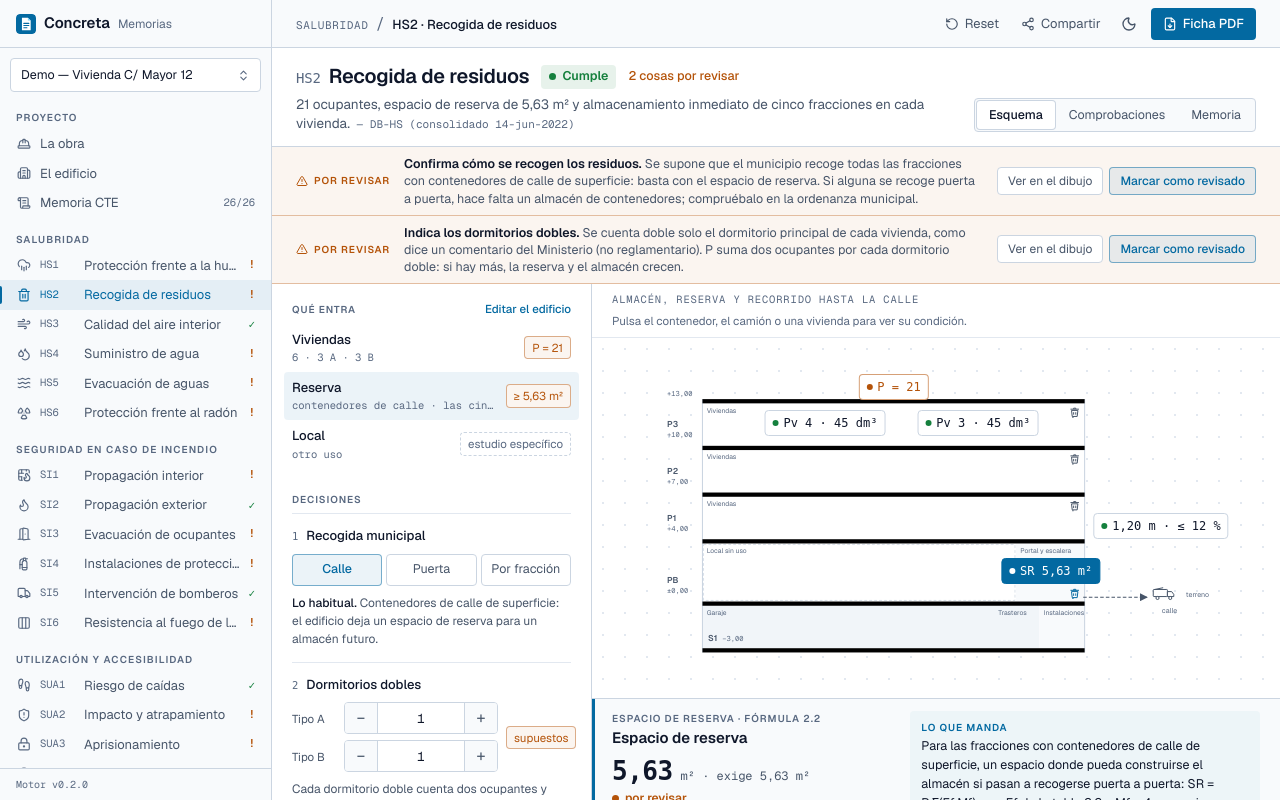
it: HS2 · Recogida y evacuación de residuos (feature-21) › cabecera, qué entra y avisos; puerta a puerta pide almacén en lugar de reserva
expect the element "Almacén, reserva y recorrido hasta la calle" is shown: met, box [592,284,1279,799]
expect the element named "Avisos" shows "Confirma cómo se recogen los residuos.": met, box [404,155,642,172]
Click the button "Puerta".
click(431, 570)  # box [386,554,477,586]
(page scrolled)
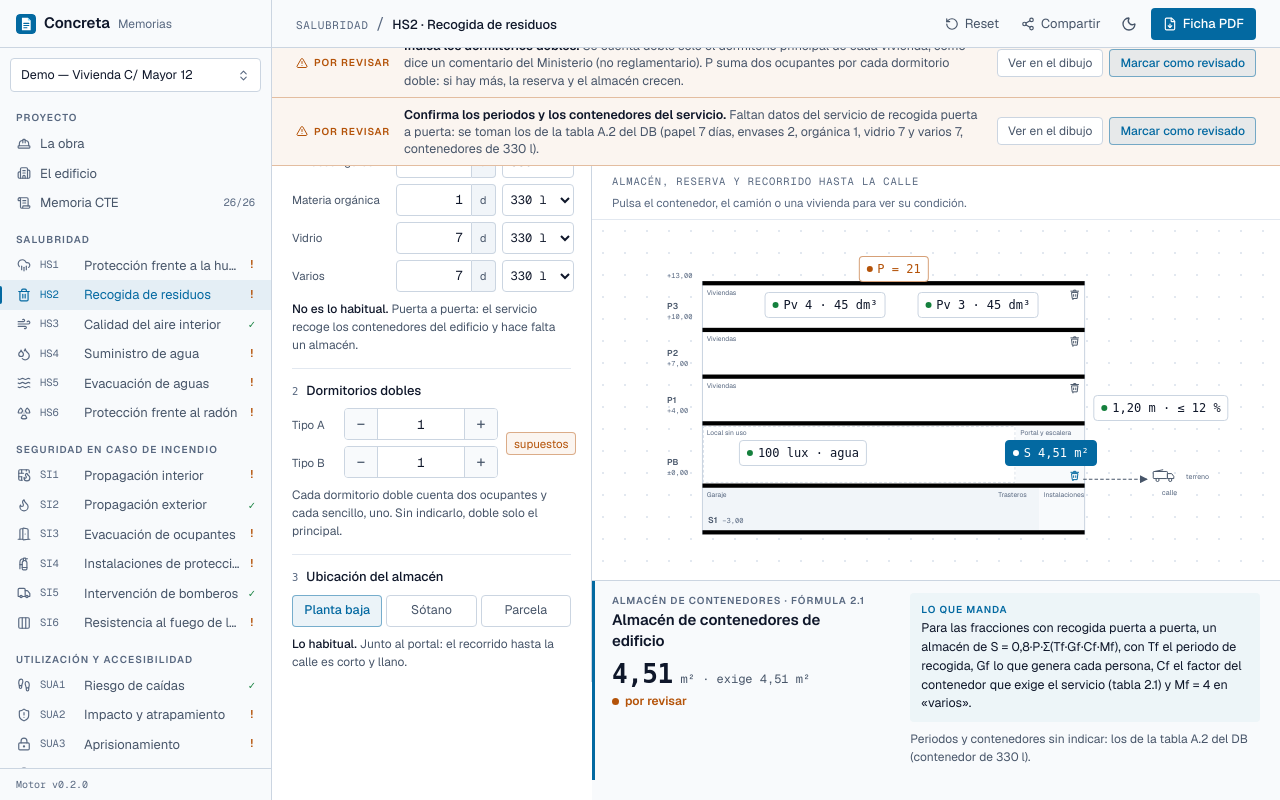
expect the element named "Avisos" shows "Confirma los periodos y los contenedores del servicio.": met, box [404,106,726,123]
expect the element named "Avisos" no longer shows "Confirma cómo se recogen los residuos.": met, box [272,48,1279,166]
Dos dobles en el tipo A: P sube a 24.
Click the button named "Dormitorios dobles del tipo A: más".
click(481, 424)  # box [465,409,497,439]
(page scrolled)
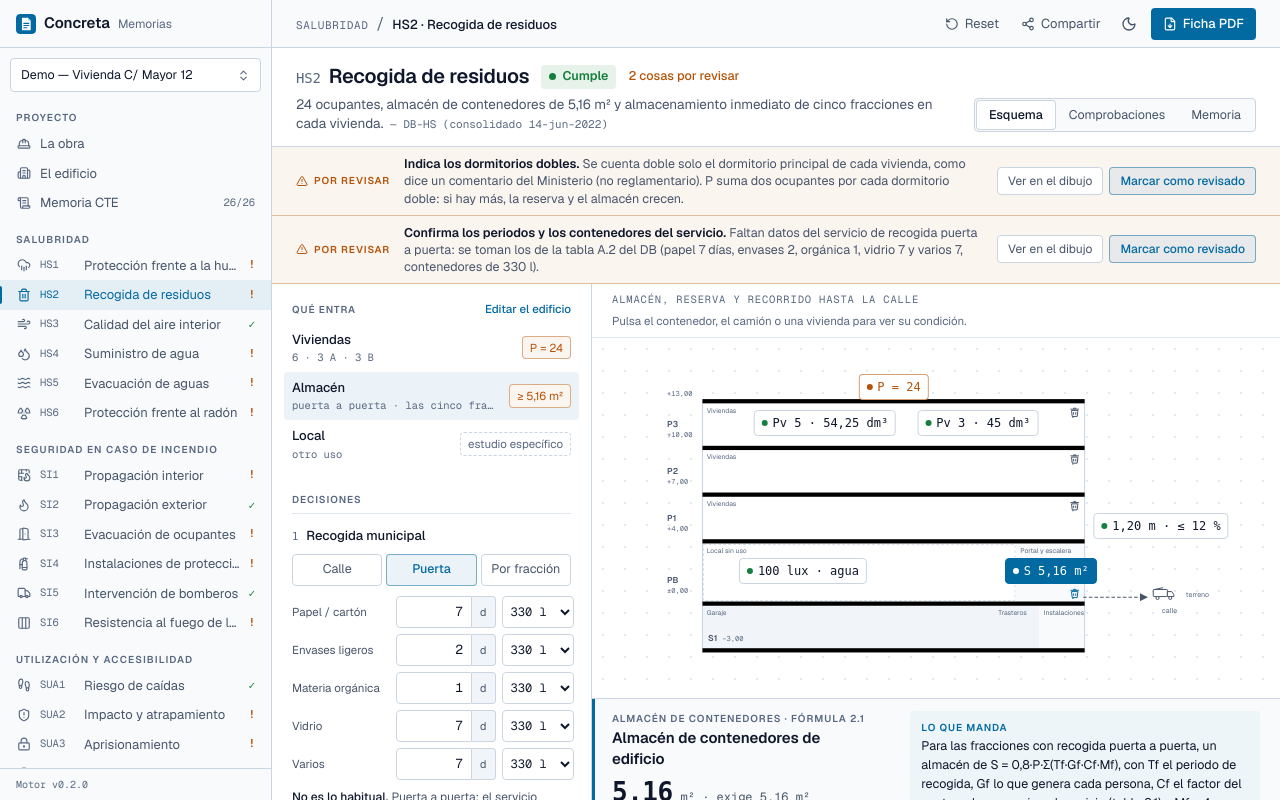
expect the element "Qué entra" shows "P = 24": met, box [284,324,579,372]
